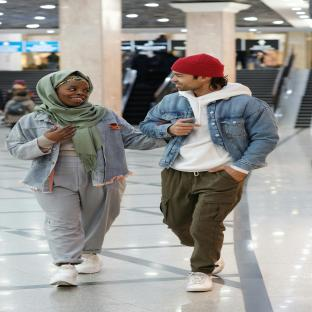Human: (6, 70, 167, 285), (140, 54, 279, 292)
